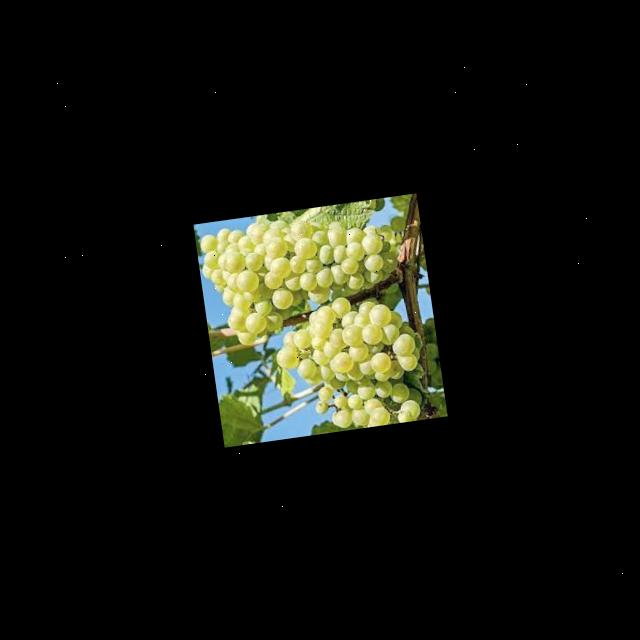grape: (194, 195, 420, 350)
